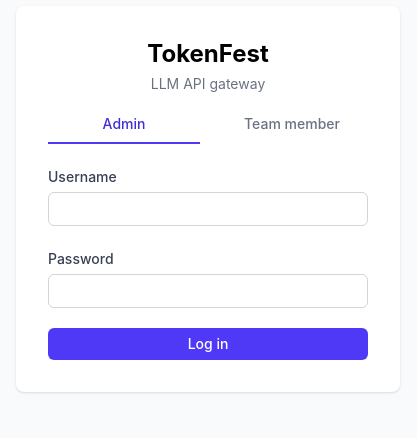
Test: shows the server error on failed login
Type "admin" into the field labelled "Username" at point(208, 209), box x1=48 y1=192 x2=368 y2=226
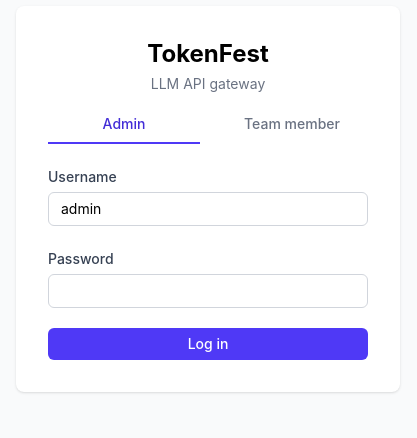
Type "bad" into the password field labelled "Password" at point(208, 291), box x1=48 y1=274 x2=368 y2=308
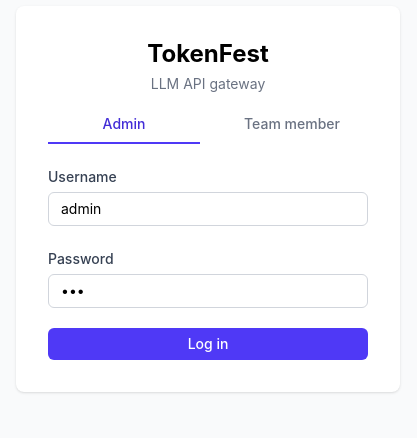
Click the button "Log in" at point(208, 344), box x1=48 y1=328 x2=368 y2=360
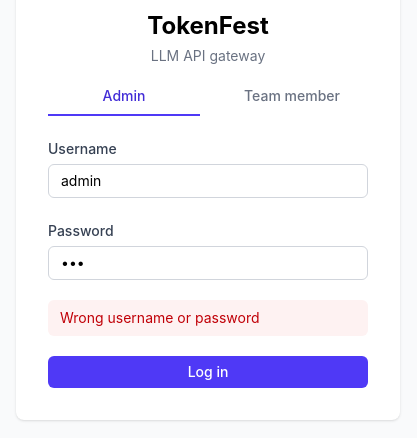
Check: the text "Wrong username or password" is shown, box x1=48 y1=300 x2=368 y2=336
